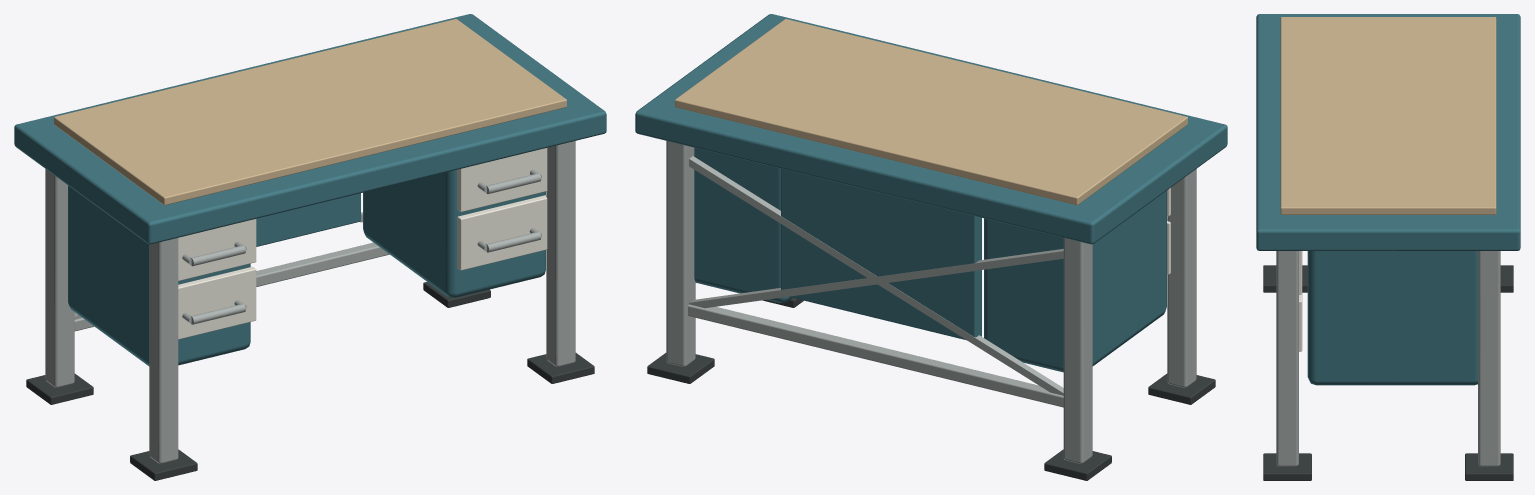
Rendered from optician-and-optical-lens-workshop-optician-and-optica-df2004f4__31682.glb.
3 views of the same model, side by side, from view 1: azimuth 30°, elevation 25°; view 2: azimuth 150°, elevation 25°; view 3: azimuth 270°, elevation 25° (orthographic). The views are drawn at different scales.
Parts seen in each view (by area): view 1: optician-and-optical-lens-workshop-spectacle-fitting-desk; view 2: optician-and-optical-lens-workshop-spectacle-fitting-desk; view 3: optician-and-optical-lens-workshop-spectacle-fitting-desk.
Boxes of the visible parts, x1,y1,x2,y2 form: optician-and-optical-lens-workshop-spectacle-fitting-desk: (14, 14, 606, 480); optician-and-optical-lens-workshop-spectacle-fitting-desk: (635, 14, 1227, 480); optician-and-optical-lens-workshop-spectacle-fitting-desk: (1256, 14, 1520, 480).
Size of the model in its own units: 1.48 by 0.8401 by 0.76.
